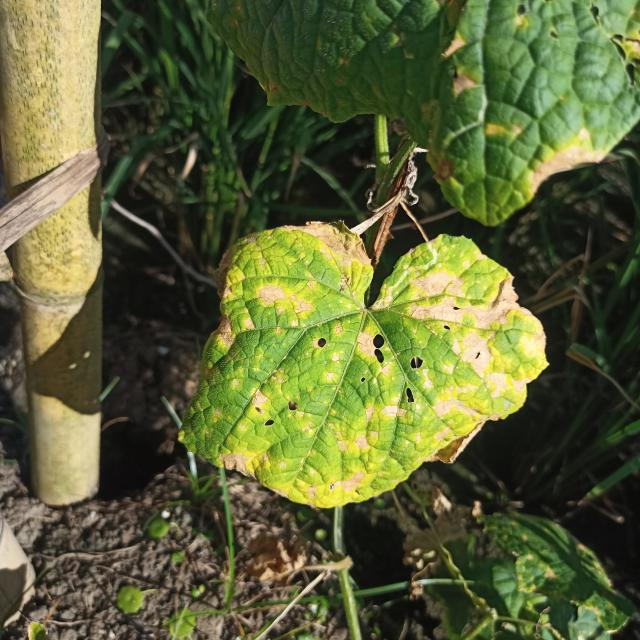disease_cucumber: (173, 225, 543, 502)
